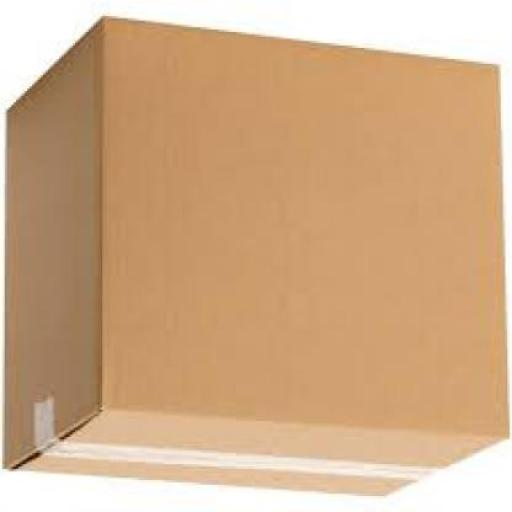cardboard: (0, 20, 510, 500)
